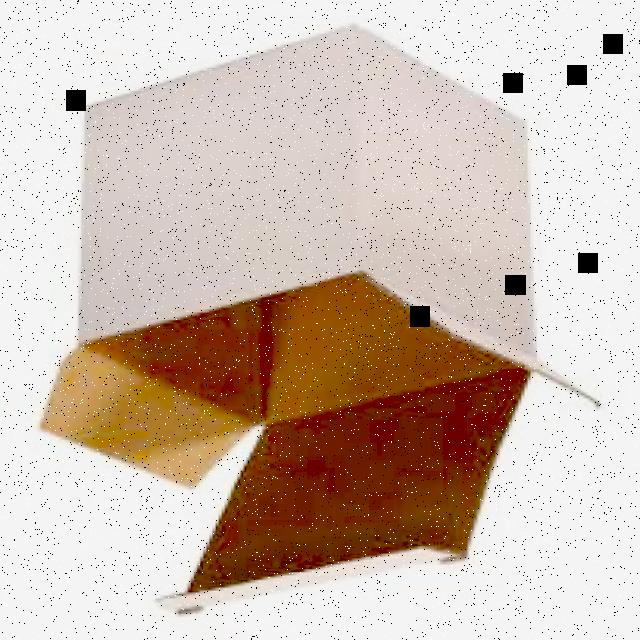cardboard_box: (34, 31, 594, 615)
